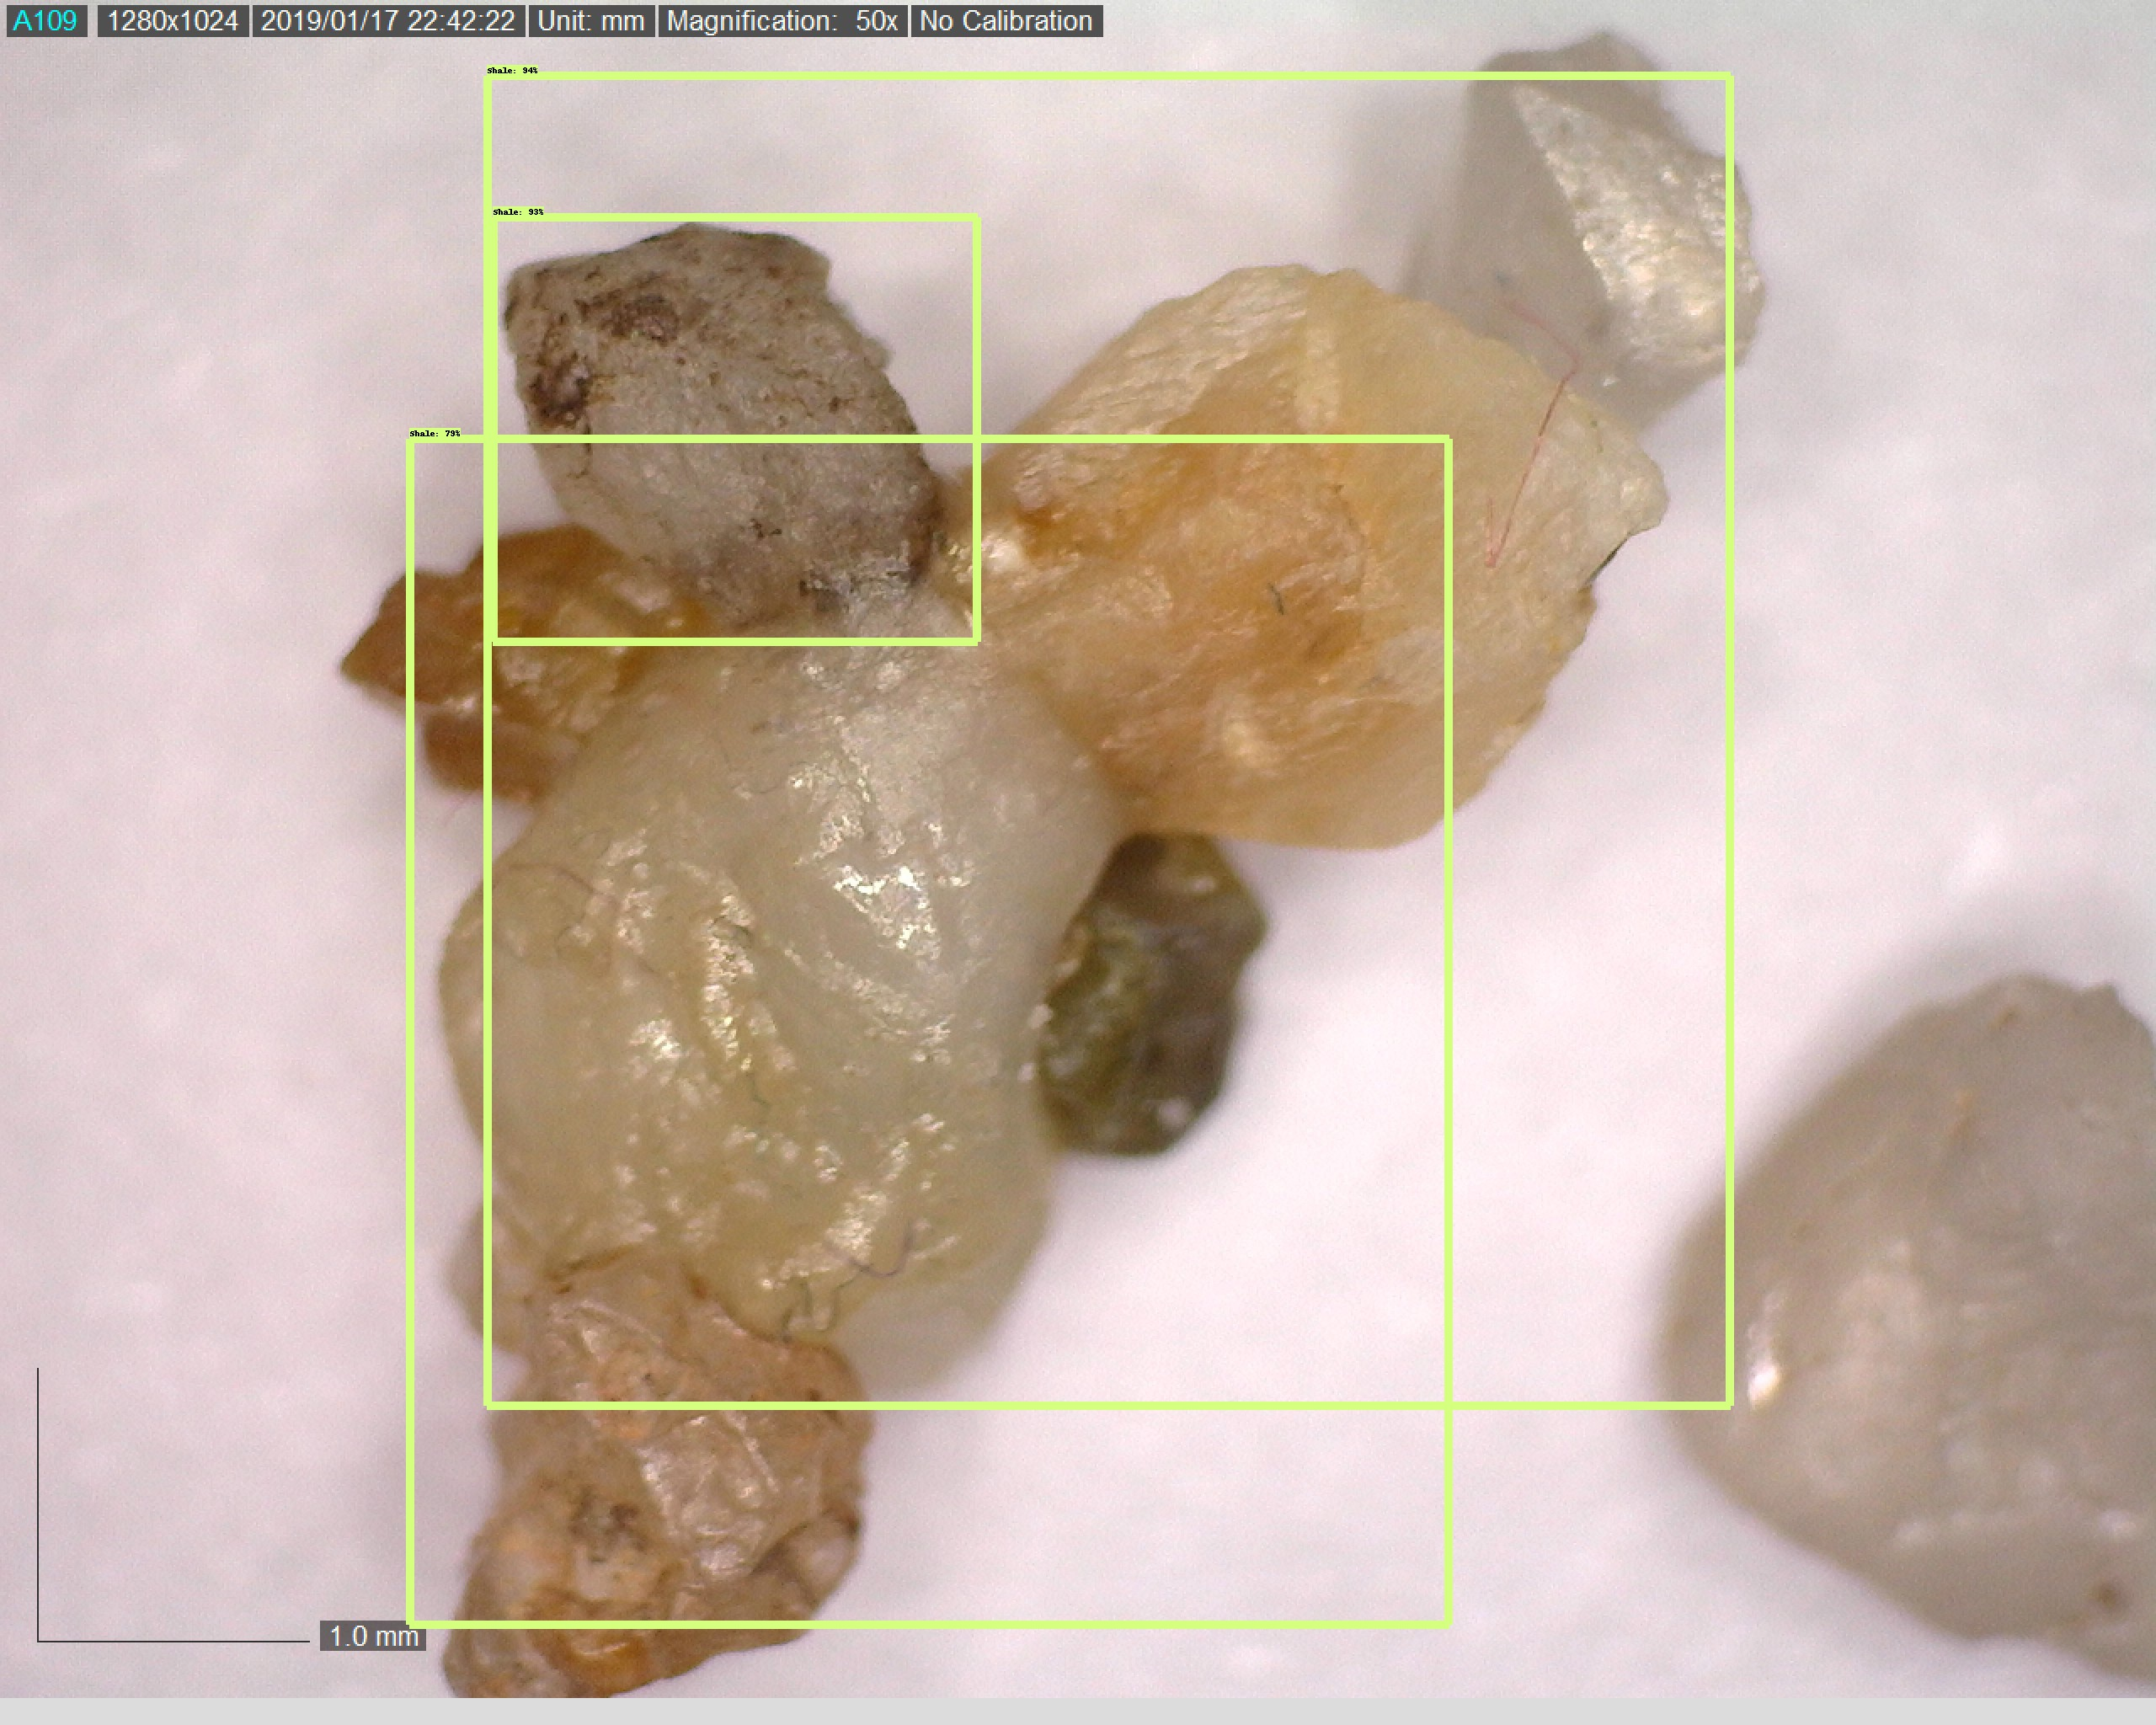Quartz: (401, 583, 1139, 1398), (964, 229, 1686, 848), (366, 1267, 901, 1707), (475, 202, 935, 627)
